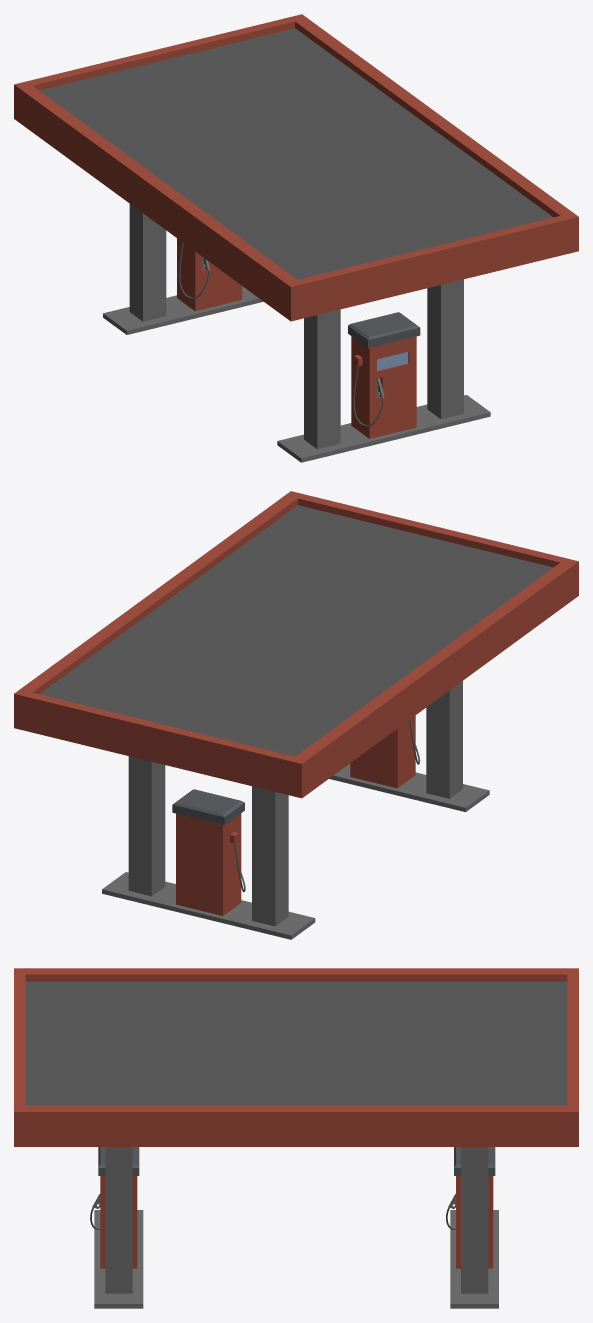
Rendered from Gas_Station_01.fbx.
3 views of the same model, one above another, from view 1: azimuth 30°, elevation 25°; view 2: azimuth 150°, elevation 25°; view 3: azimuth 270°, elevation 25° (orthographic). The views are drawn at different scales.
Parts seen in each view (by area): view 1: Gas_Station_01; view 2: Gas_Station_01; view 3: Gas_Station_01.
Part boxes in pixels (bbox=[...]): Gas_Station_01: bbox=[14, 14, 578, 462]; Gas_Station_01: bbox=[14, 491, 578, 939]; Gas_Station_01: bbox=[14, 968, 578, 1308].
Size of the model in its own units: 530 by 381 by 882.
